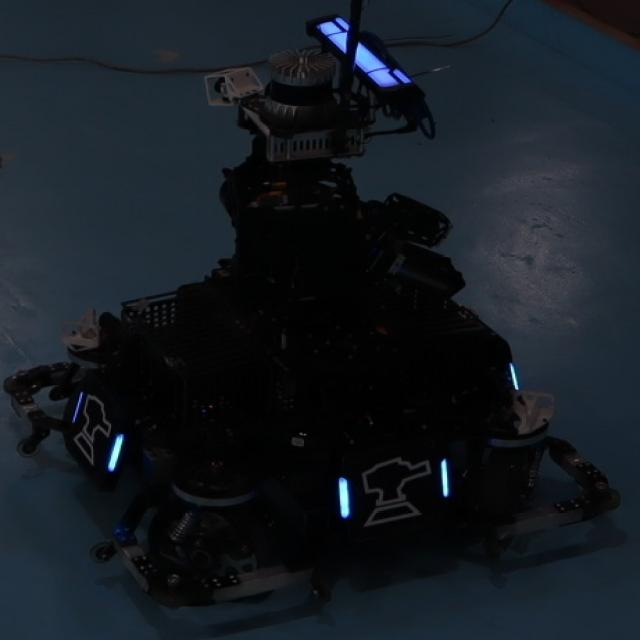Bs: (338, 455, 452, 525), (62, 384, 125, 478)
